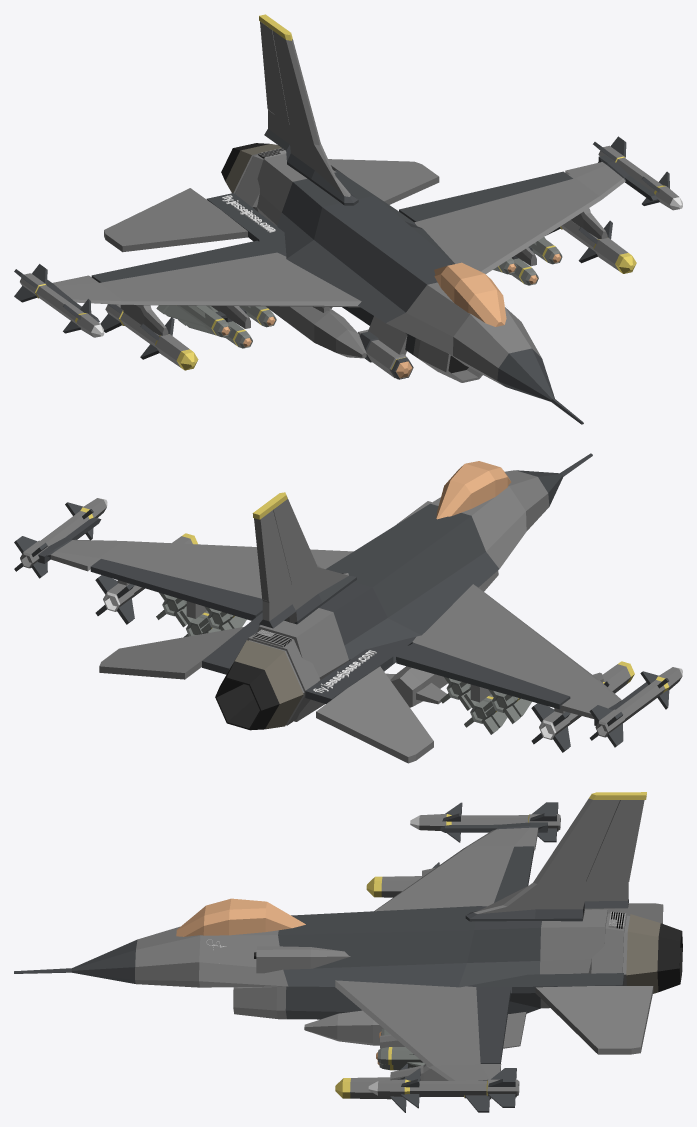
Rendered from airplane.glb.
3 renders of one model, top to bottom at view 1: azimuth 30°, elevation 25°; view 2: azimuth 150°, elevation 25°; view 3: azimuth 270°, elevation 25°, orthographic. The views are drawn at different scales.
Visible parts, largest first — view 1: Cylinder.001; view 2: Cylinder.001; view 3: Cylinder.001.
Boxes of the visible parts, x1,y1,x2,y2 form: Cylinder.001: (14,14,682,424); Cylinder.001: (14,453,682,763); Cylinder.001: (14,792,682,1112).
Size of what is drawn, in the model's own units: 1.16 by 0.464 by 1.15.
